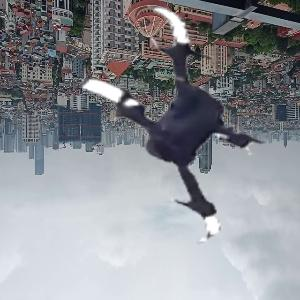drone: (41, 1, 288, 248)
